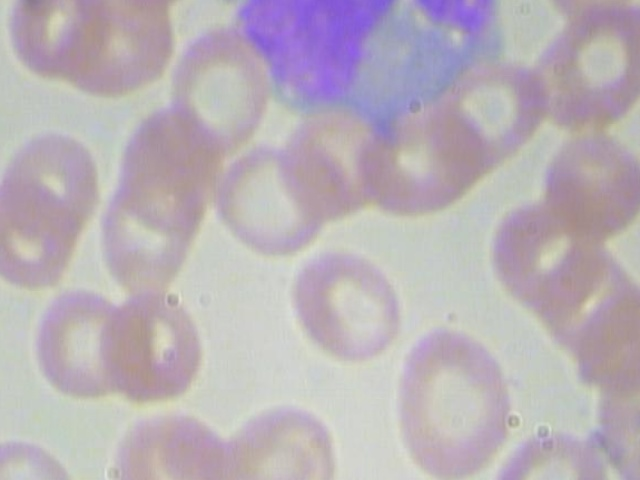RBC: (389, 320, 517, 480), (278, 239, 407, 364), (15, 282, 144, 407), (90, 286, 219, 411), (109, 104, 229, 233), (220, 138, 329, 262), (538, 116, 640, 240), (0, 116, 104, 231), (0, 169, 85, 298), (60, 0, 173, 97), (3, 0, 116, 82), (538, 0, 640, 19)
WBC: (243, 0, 510, 139)
